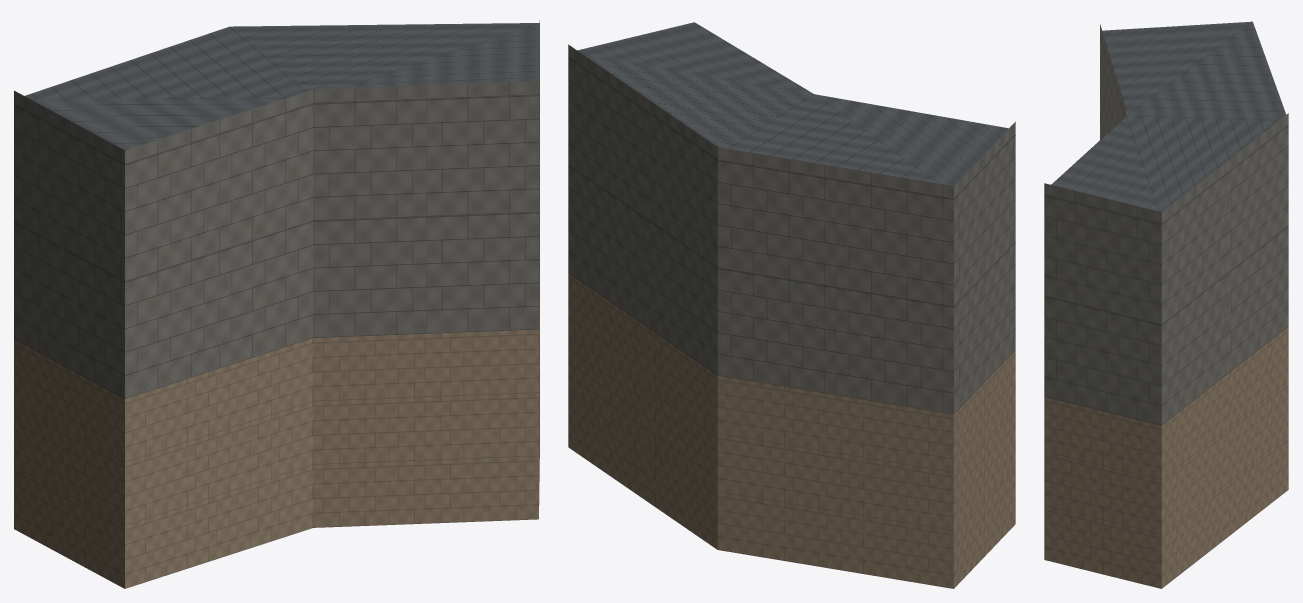
The model's file is bld_c2_-2_540.gltf.
The picture shows the model from 3 angles, left to right: view 1: azimuth 30°, elevation 25°; view 2: azimuth 150°, elevation 25°; view 3: azimuth 270°, elevation 25°; orthographic projection. The views are drawn at different scales.
Parts seen in each view (by area): view 1: bld_c2_-2_540; view 2: bld_c2_-2_540; view 3: bld_c2_-2_540.
Boxes of the visible parts, box(x1,y1,x2,y2) form: bld_c2_-2_540: box(14, 20, 539, 588); bld_c2_-2_540: box(568, 22, 1015, 588); bld_c2_-2_540: box(1044, 21, 1288, 588).
Bounding box in the file's own units: 13.29 × 11.78 × 6.92.
4 materials, 4 textured.
